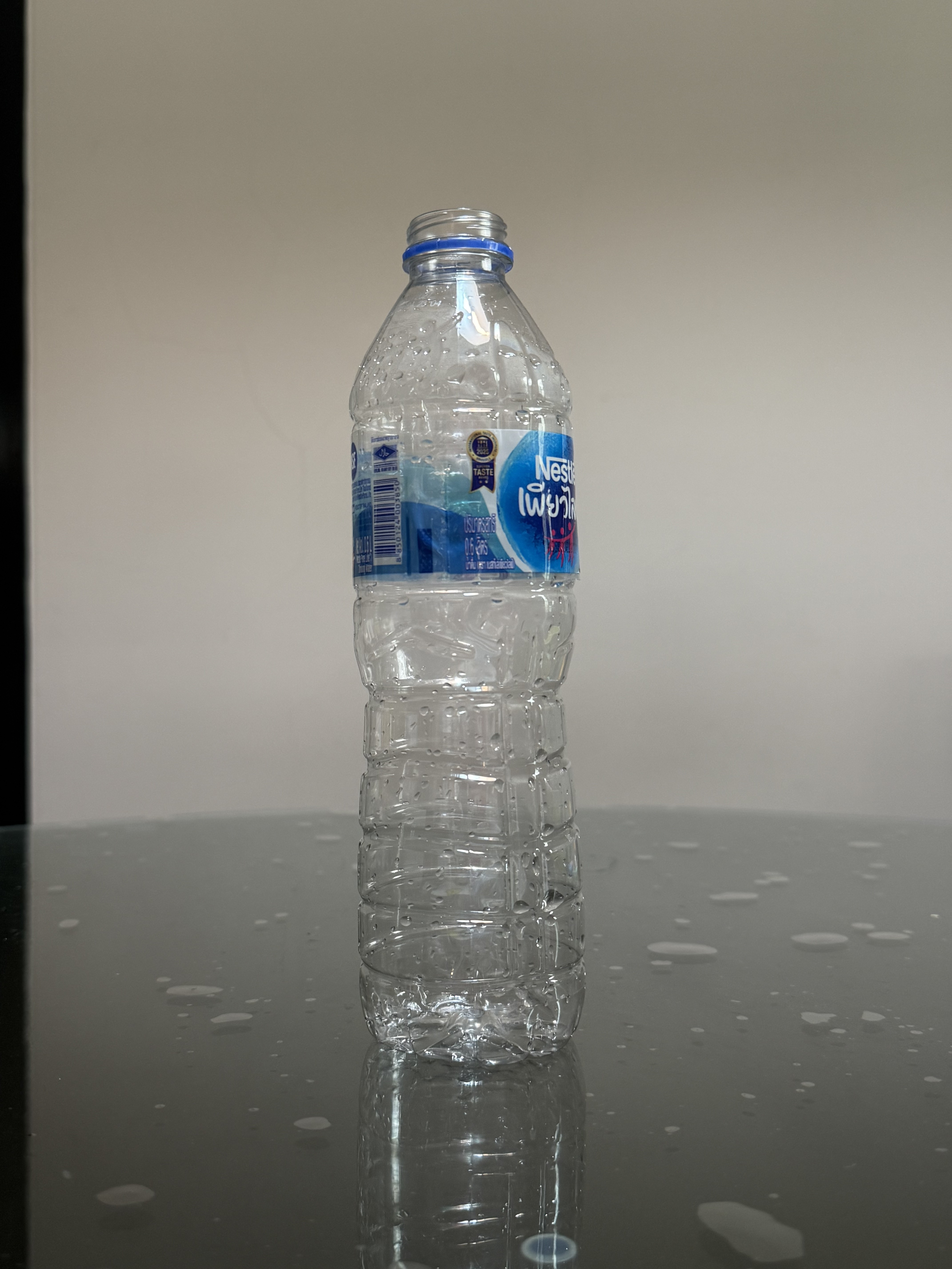no_cap: (399, 205, 516, 270)
